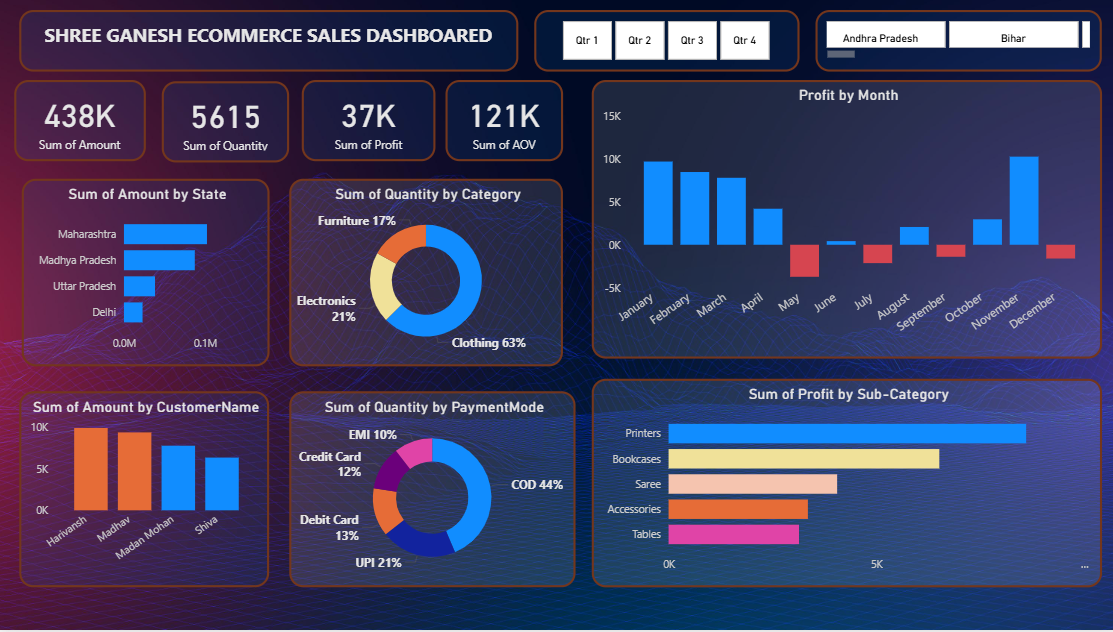

This screenshot's page, from the dashboard's own definition file:
{"tool":"powerbi","page":{"name":"Page 1","canvas":[1280,720],"ordinal":0},"visuals":[{"type":"textbox","box":[24.3,11.4,570,70],"z":0},{"type":"columnChart","title":"Profit by Month","fields":{"Y":["Details.Profit"],"Category":["Orders.Order Date.Variation.Date Hierarchy.Month"]},"box":[678.6,91.4,582.9,318.6],"z":1000},{"type":"barChart","fields":{"Category":["Details.Sub-Category"],"Y":["Details.Profit"]},"box":[678.6,432.9,582.9,238.6],"z":2000},{"type":"donutChart","fields":{"Y":["Details.Quantity"],"Category":["Details.Category"]},"box":[333.4,204.5,312.9,214.1],"z":3000},{"type":"donutChart","fields":{"Y":["Details.Quantity"],"Category":["Details.PaymentMode"]},"box":[332.9,447.1,327.1,224.3],"z":4000},{"type":"card","fields":{"Values":["Details.Amount"]},"box":[18.6,91.4,150,92.9],"z":5000},{"type":"card","fields":{"Values":["Details.Quantity"]},"box":[187.1,92.9,145.7,92.9],"z":6000},{"type":"card","fields":{"Values":["Details.Profit"]},"box":[347.1,91.4,152.9,92.9],"z":7000},{"type":"card","fields":{"Values":["Details.AOV"]},"box":[511.4,91.4,134.3,92.9],"z":8000},{"type":"barChart","fields":{"Category":["Orders.State"],"Y":["Details.Amount"]},"box":[27.1,204.3,282.9,214.3],"z":9000},{"type":"columnChart","fields":{"Category":["Orders.CustomerName"],"Y":["Details.Amount"]},"box":[24.3,447.1,285.7,224.3],"z":10000},{"type":"advancedSlicerVisual","fields":{"Values":["Orders.Order Date.Variation.Date Hierarchy.Quarter"]},"box":[612.9,11.4,302.9,70],"z":11000},{"type":"advancedSlicerVisual","fields":{"Values":["Orders.State"]},"box":[934.3,11.4,327.1,70],"z":12000}]}

Visuals, with their boxes in screenshot pixels (x1, y1, x2, y2), scaled from the page's 1280x720 canvas onto the 1113x632 screenshot:
textbox: <box>21,10,517,71</box>
"Profit by Month" columnChart: <box>590,80,1097,360</box>
barChart - Details.Sub-Category x Details.Profit: <box>590,380,1097,589</box>
donutChart - Details.Quantity x Details.Category: <box>290,180,562,367</box>
donutChart - Details.Quantity x Details.PaymentMode: <box>289,392,574,589</box>
card - Details.Amount: <box>16,80,147,162</box>
card - Details.Quantity: <box>163,82,289,163</box>
card - Details.Profit: <box>302,80,435,162</box>
card - Details.AOV: <box>445,80,561,162</box>
barChart - Orders.State x Details.Amount: <box>24,179,270,367</box>
columnChart - Orders.CustomerName x Details.Amount: <box>21,392,270,589</box>
advancedSlicerVisual - Orders.Order Date.Variation.Date Hierarchy.Quarter: <box>533,10,796,71</box>
advancedSlicerVisual - Orders.State: <box>812,10,1097,71</box>
